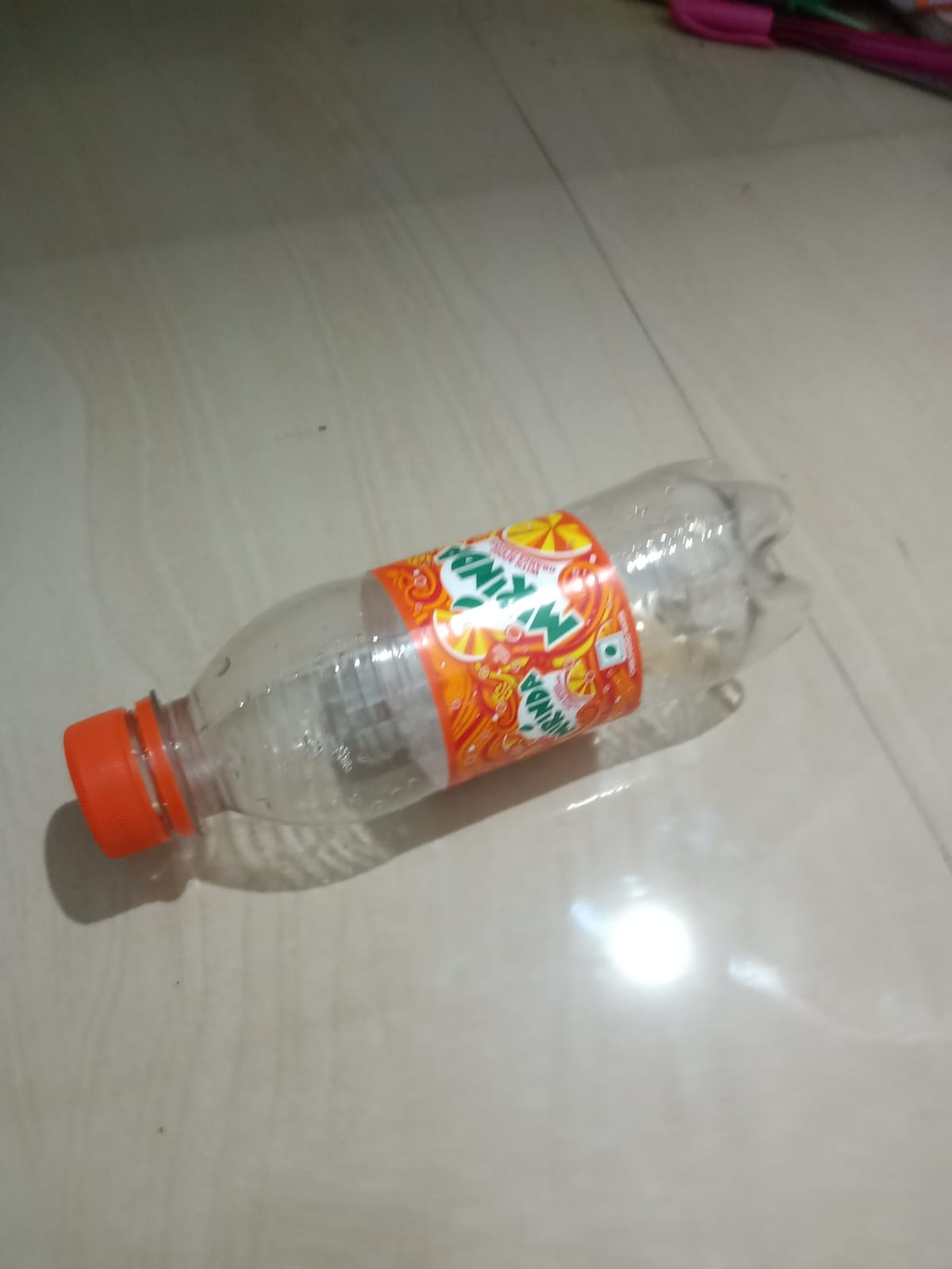plastic: (30, 453, 896, 895)
